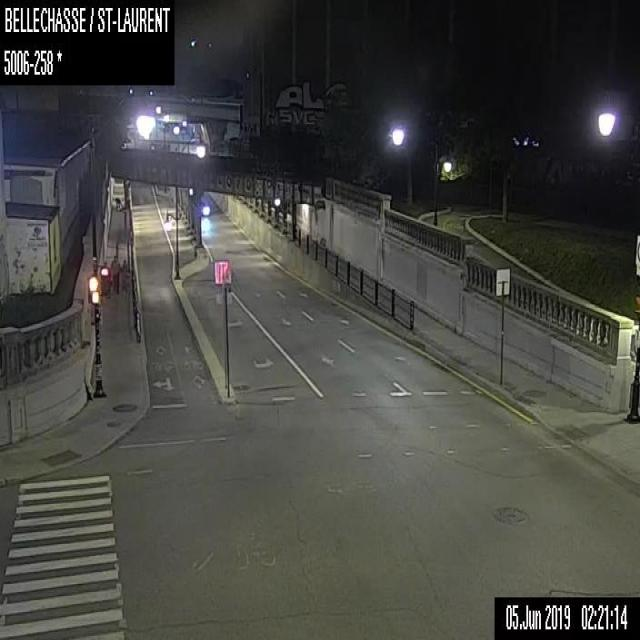pedestrian: (111, 255, 121, 293), (120, 258, 128, 292)
vehicle: (200, 199, 210, 215)
